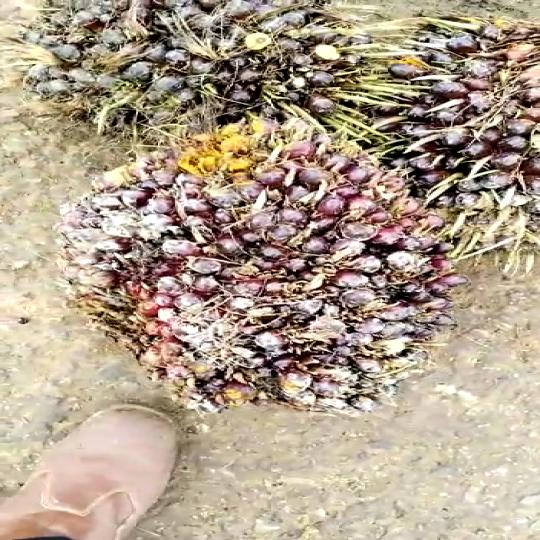kurang masak: (95, 120, 449, 428), (47, 0, 346, 123), (363, 31, 540, 218)
